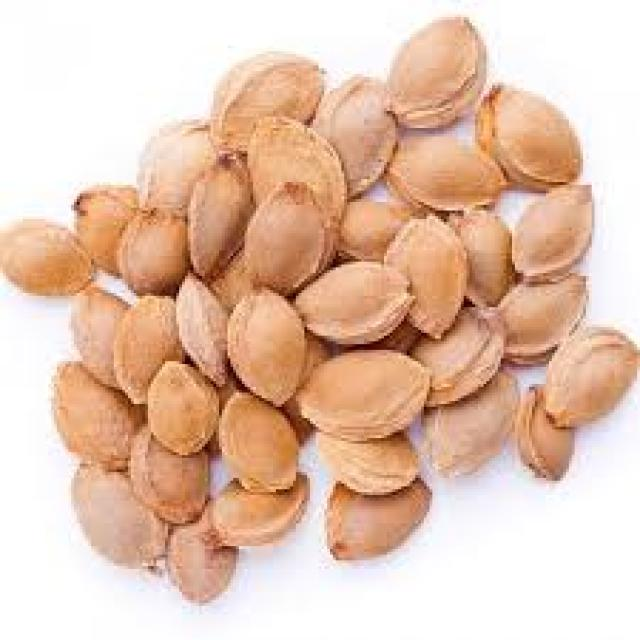cekirdek: (151, 152, 571, 461)
